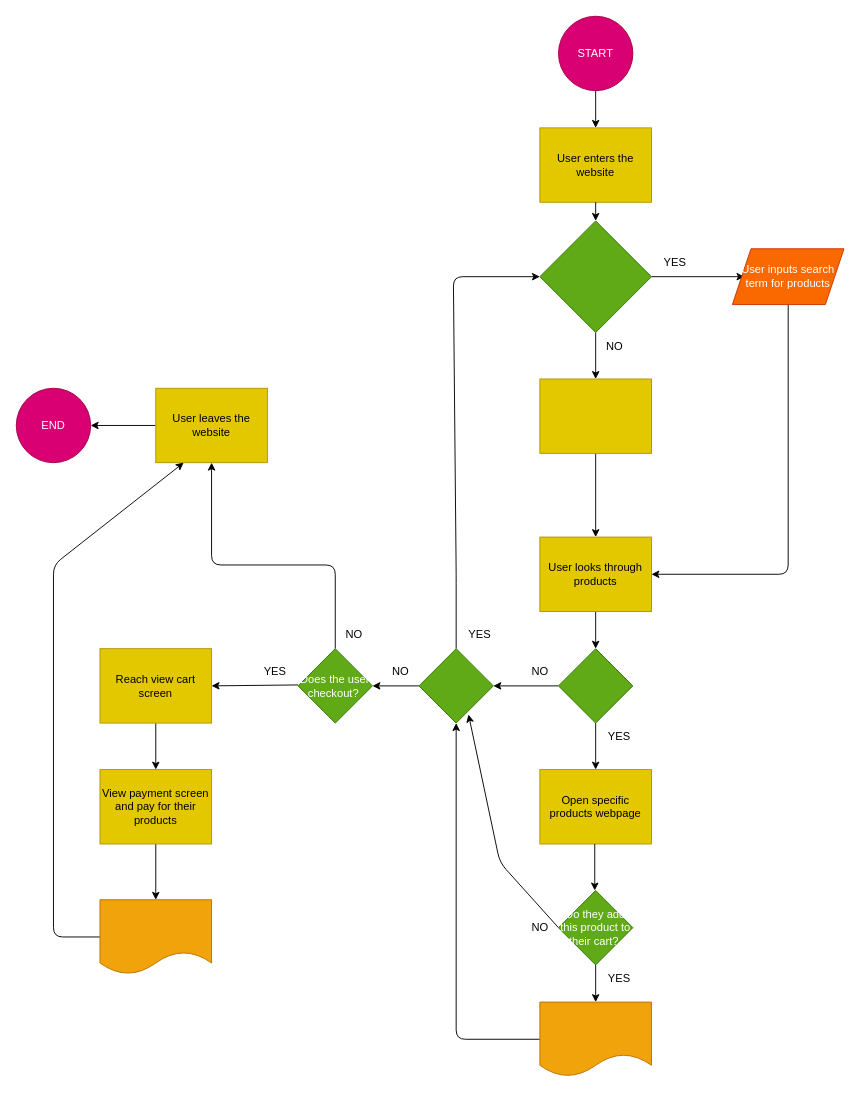
Some shapes in this 860 by 1093 pixel diagram are drawn without their labels. Each missing label, with the centre of its shape:
"Added to cart confirmation message" goes at pixel 595 1038.
"Do they view this specific product?" goes at pixel 595 685.
"Does the user continue shopping?" goes at pixel 455 685.
"Does the user search for a product?" goes at pixel 595 276.
"Order confirmation screen and a confirmation email is sent to the user." goes at pixel 155 936.
"User explores the home page" goes at pixel 595 415.
